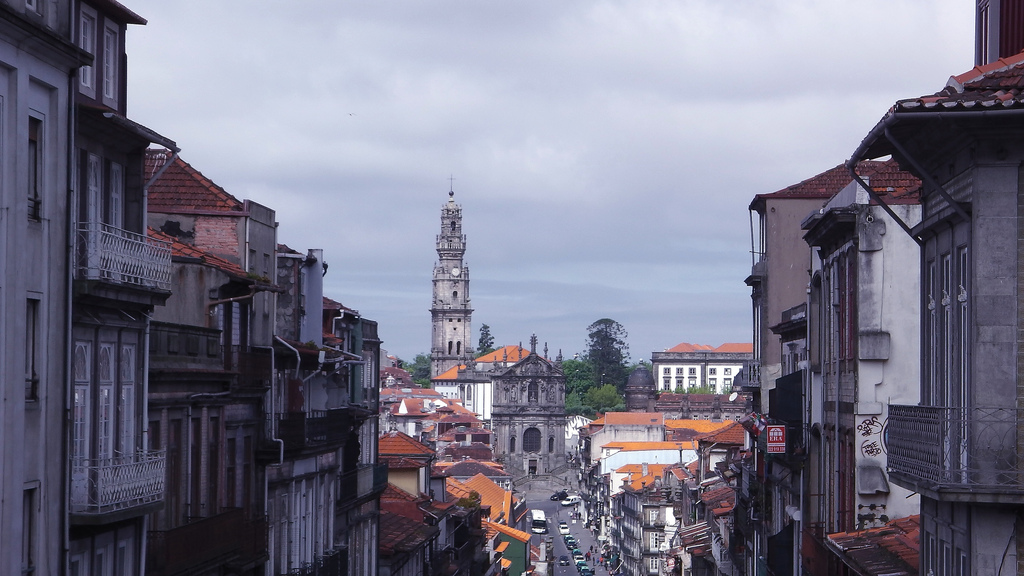clerigos: (428, 174, 473, 379)
